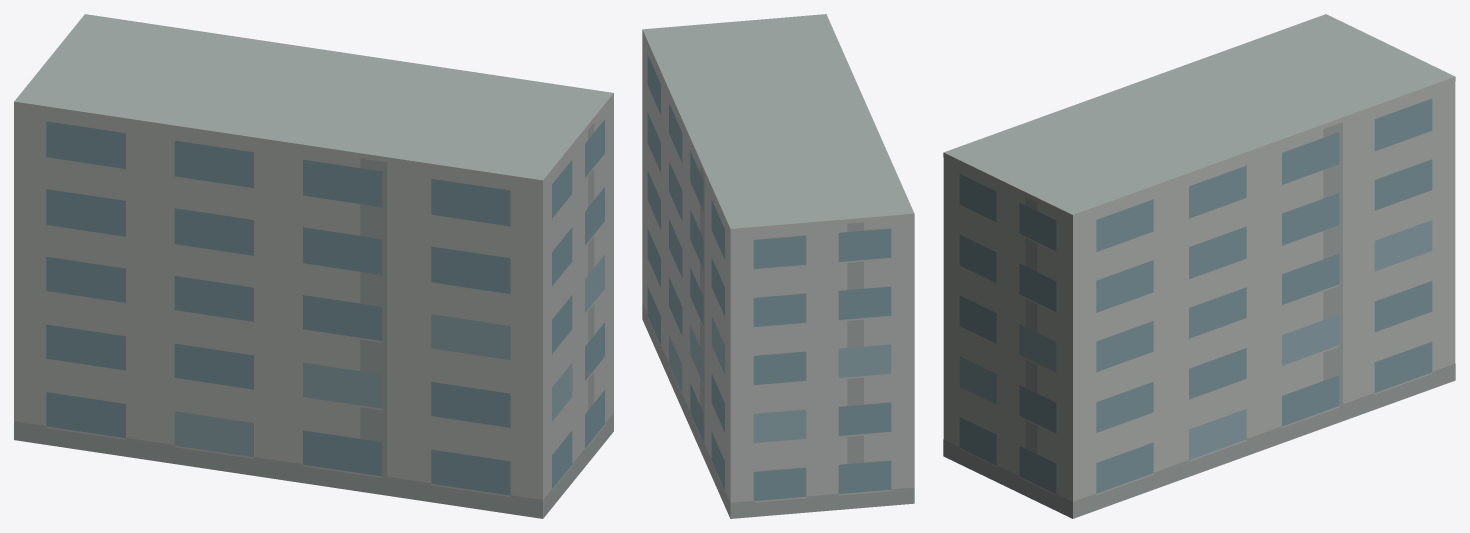
Rendered from survey-upis-32637297.glb.
The picture shows the model from 3 angles, left to right: view 1: azimuth 30°, elevation 25°; view 2: azimuth 150°, elevation 25°; view 3: azimuth 270°, elevation 25°; orthographic projection. The views are drawn at different scales.
Visible parts, largest first — view 1: survey-upis-32637297.tmp; view 2: survey-upis-32637297.tmp; view 3: survey-upis-32637297.tmp.
Boxes of the visible parts, x1,y1,x2,y2 form: survey-upis-32637297.tmp: (14, 14, 613, 518); survey-upis-32637297.tmp: (642, 14, 914, 518); survey-upis-32637297.tmp: (943, 14, 1455, 518).
Bounding box in the file's own units: 22.2 × 15.65 × 23.9.
